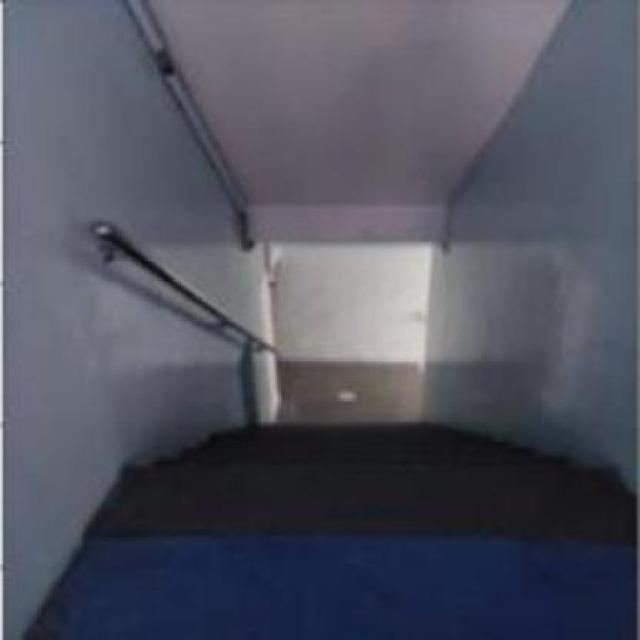stair: (110, 404, 632, 528)
